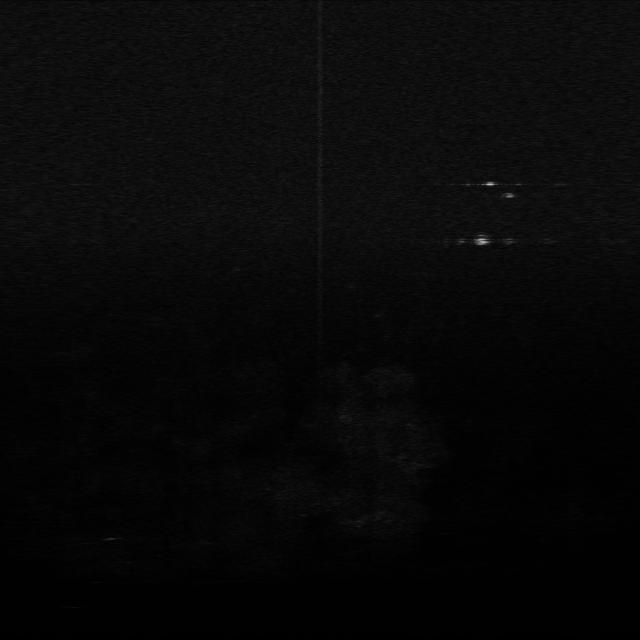rov: (466, 232, 493, 249)
